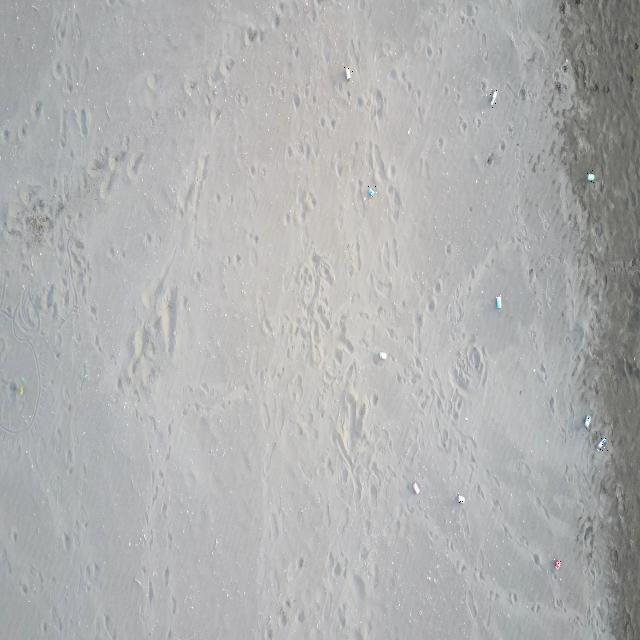Garbage: (8, 382, 24, 395), (595, 435, 607, 449), (489, 88, 496, 105), (16, 382, 24, 395), (344, 65, 351, 79), (367, 184, 375, 196), (412, 482, 420, 493), (584, 415, 591, 427), (377, 351, 387, 359), (495, 295, 500, 308), (587, 172, 594, 180), (456, 495, 463, 503), (553, 560, 560, 567)
